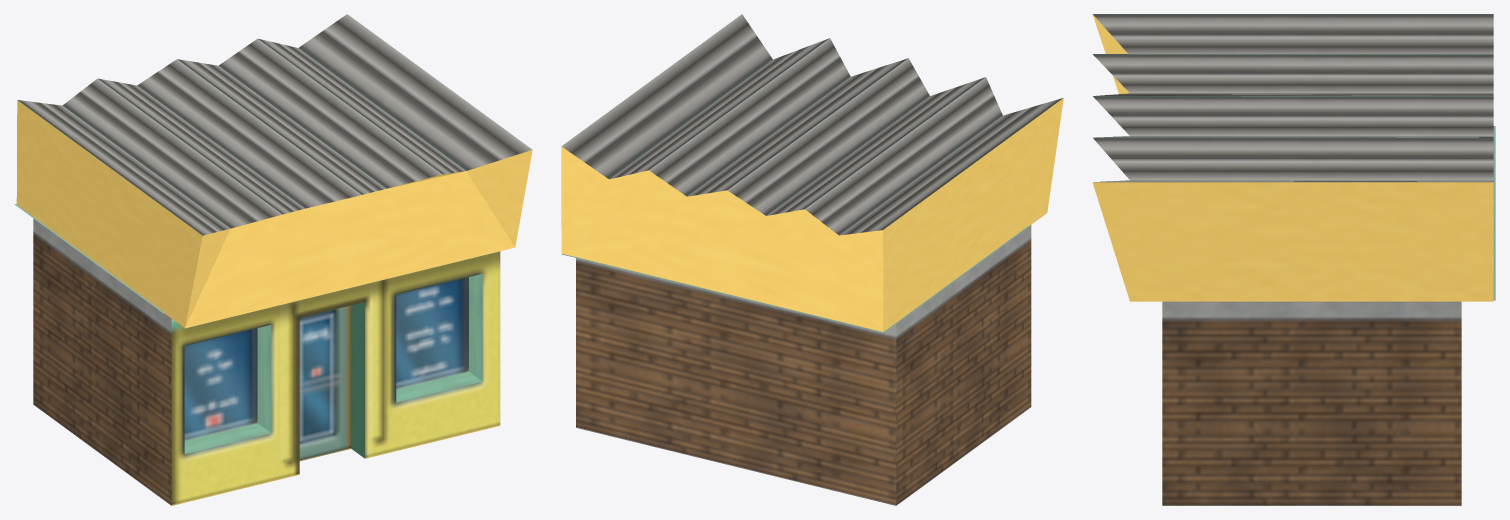
File: build_2.glb
3 views of the same model, side by side, from view 1: azimuth 30°, elevation 25°; view 2: azimuth 150°, elevation 25°; view 3: azimuth 270°, elevation 25° (orthographic). The views are drawn at different scales.
Visible parts, largest first — view 1: build_2; view 2: build_2; view 3: build_2.
Boxes of the visible parts, box(x1,y1,x2,y2) form: build_2: box(14, 14, 532, 505); build_2: box(561, 14, 1063, 505); build_2: box(1092, 14, 1495, 505).
Bounding box in the file's own units: 845 × 729 × 822.
Materials: 5 (5 with a texture image).
